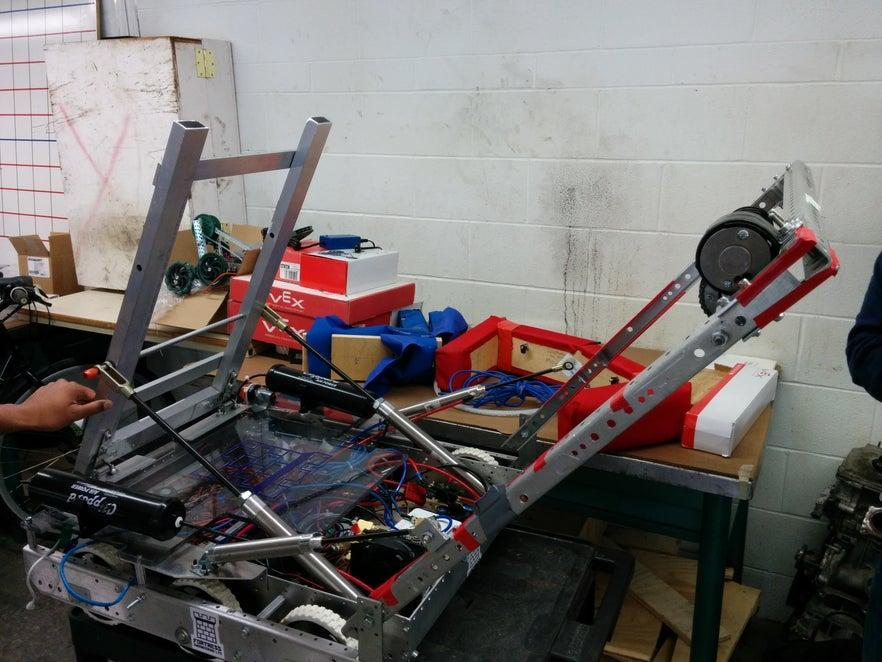robot: (3, 93, 849, 662)
